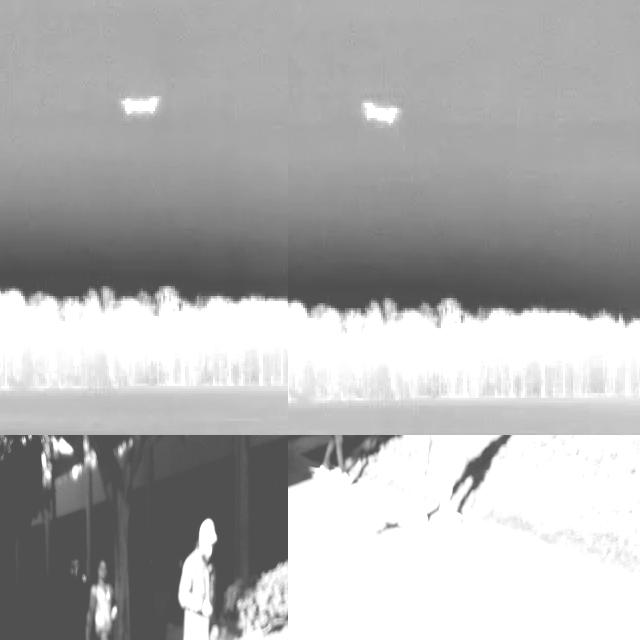1: (350, 98, 410, 133), (109, 90, 169, 124)
drone: (306, 461, 346, 508)
